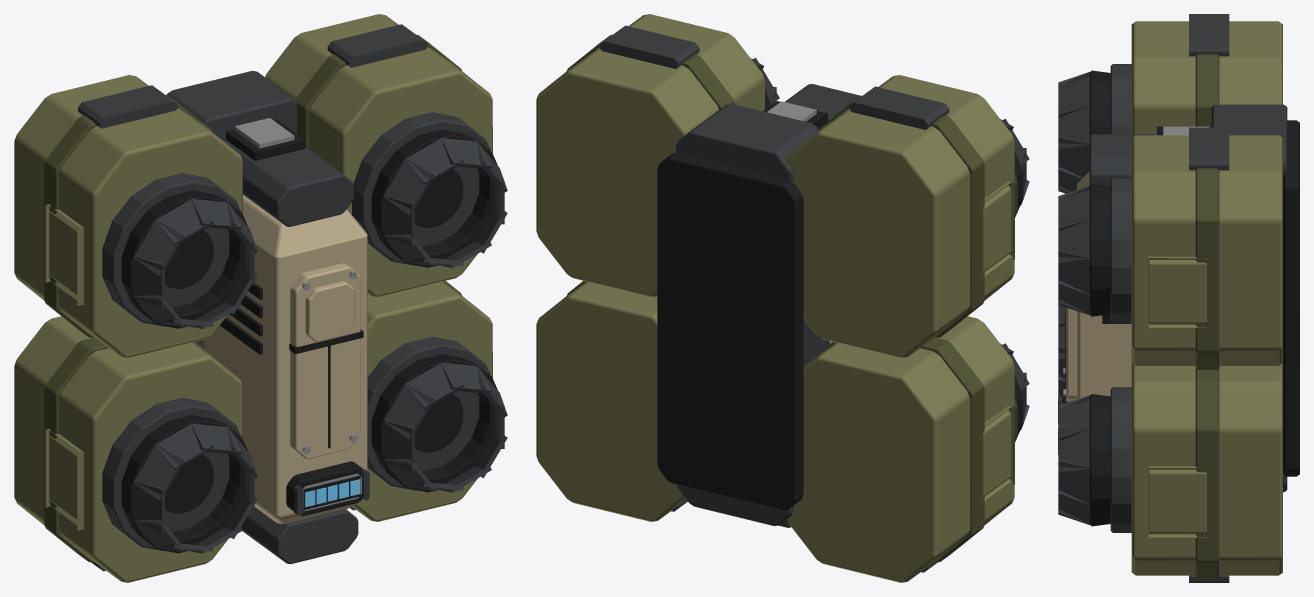
The model's file is backpack_quad.glb.
3 renders of one model, left to right at view 1: azimuth 30°, elevation 25°; view 2: azimuth 150°, elevation 25°; view 3: azimuth 270°, elevation 25°, orthographic. The views are drawn at different scales.
Parts seen in each view (by area): view 1: PodUL, PodLL, Spine, PodUR, PodLR, SpineArmor, SpineTop, Core, NozzleUR, NozzleLR, NozzleUL, NozzleLL (+45 smaller); view 2: MountPlate, PodUL, PodLL, PodUR, PodLR, Core, PodBandLL, PodBandUL, PodPanelUL, PodPanelLL, PodClampUL, PodClampUR (+2 smaller); view 3: PodUR, PodLR, PodUL, MountPlate, PodBandLR, PodBandUR, PodPanelUR, Spine, PodPanelLR, NozzleHousingUR, NozzleHousingLR, NozzleUR (+21 smaller).
Boxes of the visible parts, box(x1,y1,x2,y2) form: PodUL: box(14, 75, 242, 358); PodLL: box(14, 316, 242, 582); Spine: box(204, 195, 367, 524); PodUR: box(265, 14, 492, 297); PodLR: box(352, 281, 492, 521); SpineArmor: box(290, 263, 360, 459); SpineTop: box(224, 140, 354, 226); Core: box(166, 70, 296, 347); NozzleUR: box(371, 129, 497, 267); NozzleLR: box(371, 354, 497, 492); NozzleUL: box(121, 190, 247, 328); NozzleLL: box(121, 415, 247, 553); MountPlate: box(657, 152, 803, 510); PodUL: box(787, 75, 1014, 358); PodLL: box(787, 316, 1014, 582); PodUR: box(536, 14, 764, 297); PodLR: box(536, 281, 686, 521); Core: box(676, 103, 829, 526); PodBandLL: box(828, 337, 984, 562); PodBandUL: box(817, 95, 984, 337); PodPanelUL: box(979, 180, 1014, 282); PodPanelLL: box(979, 405, 1014, 507); PodClampUL: box(849, 86, 949, 129); PodClampUR: box(600, 25, 699, 68); PodUR: box(1131, 135, 1282, 365); PodLR: box(1131, 363, 1282, 575); PodUL: box(1131, 21, 1282, 134); MountPlate: box(1283, 120, 1299, 476); PodBandLR: box(1195, 368, 1219, 579); PodBandUR: box(1195, 168, 1219, 369); PodPanelUR: box(1148, 256, 1207, 330); Spine: box(1077, 171, 1131, 399); PodPanelLR: box(1148, 465, 1207, 540); NozzleHousingUR: box(1110, 177, 1131, 323); NozzleHousingLR: box(1110, 387, 1131, 532); NozzleUR: box(1089, 184, 1110, 316).
Size of the model in its own units: 2.13 by 2.22 by 1.15.
